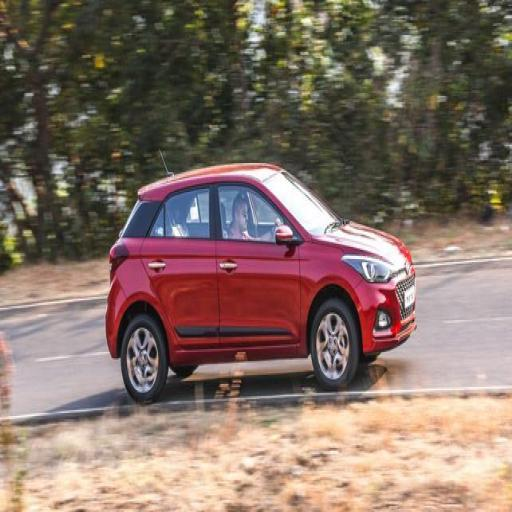License: (400, 285, 420, 309)
